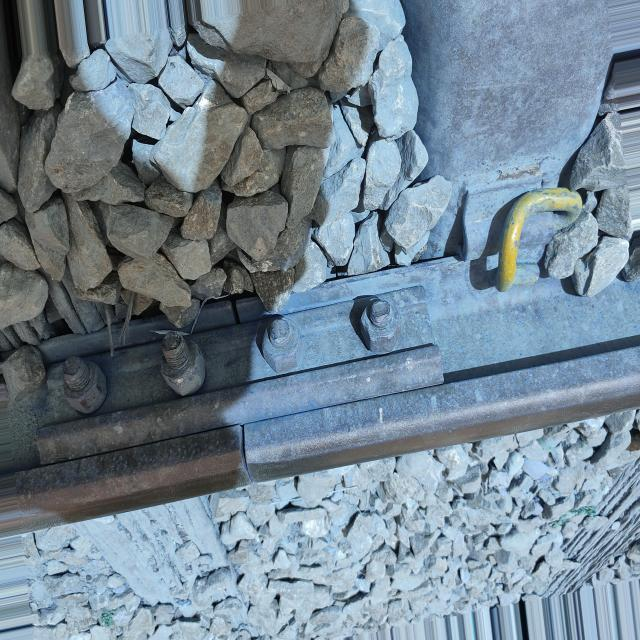Good Fasteners: (433, 166, 584, 291)
Good Joint: (31, 262, 450, 463)
